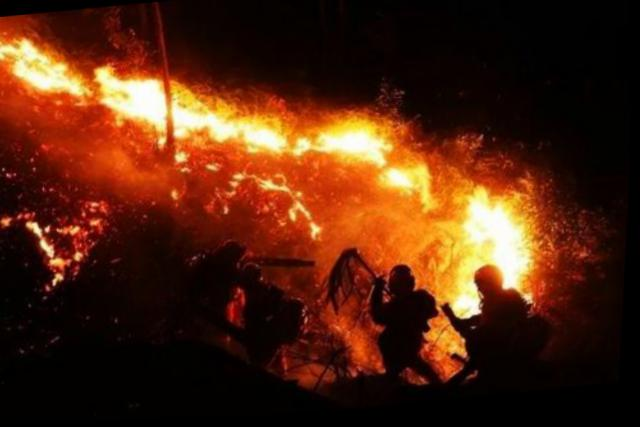fire: (0, 0, 564, 364)
